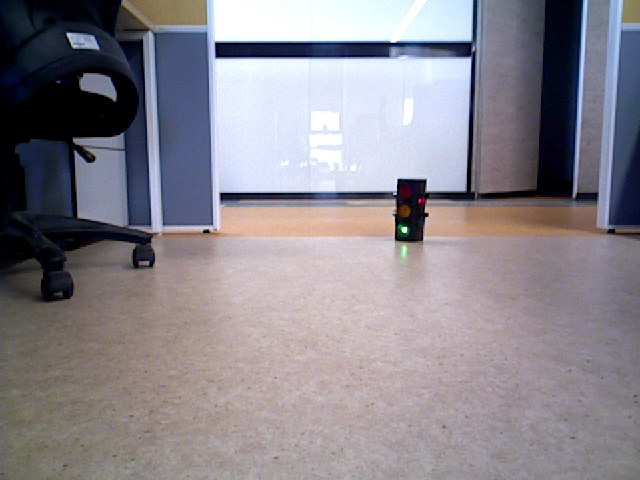green: (394, 177, 421, 235)
